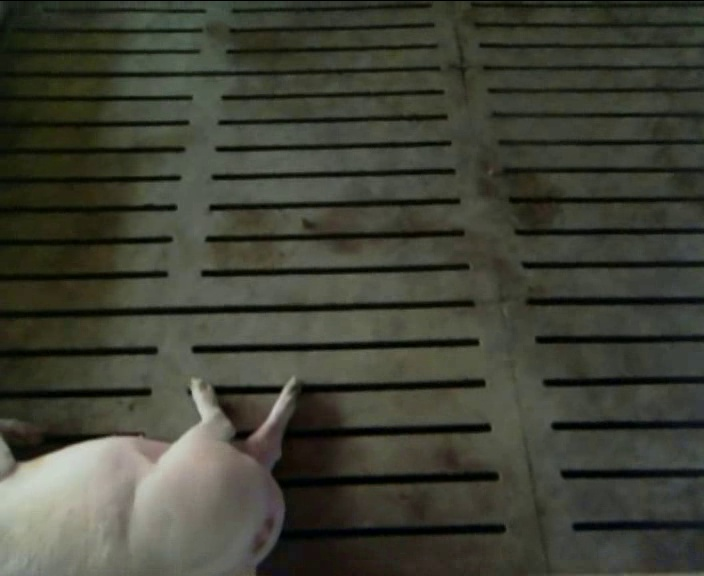pig: (0, 377, 298, 574)
